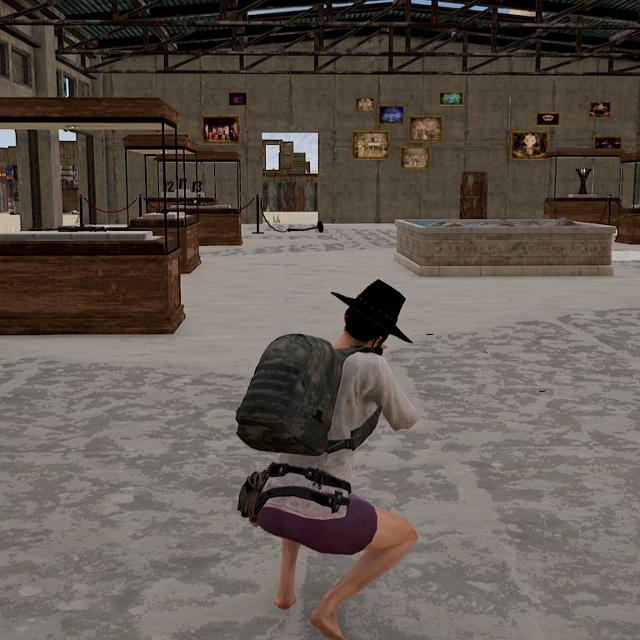head: (339, 275, 402, 352)
people: (231, 272, 421, 640)
